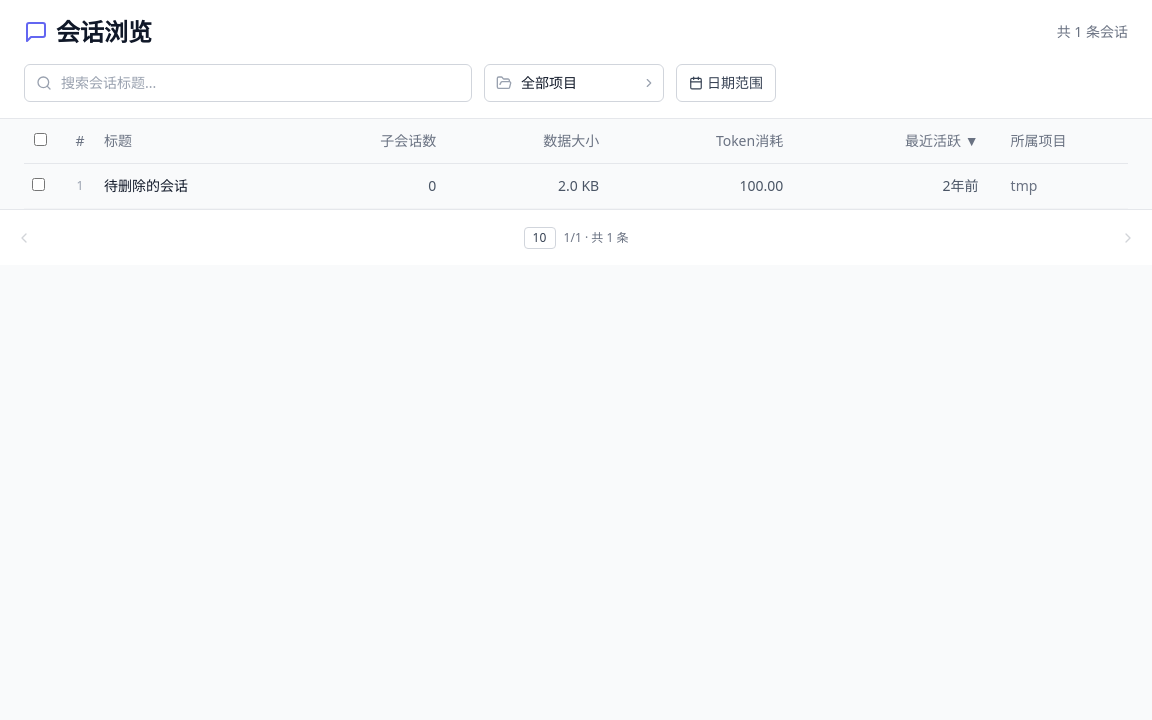
Sessions 删除确认文案按方言区分（P2-8） › v1：只说删除当前会话，不提子会话
The image size is (1152, 720).
Click the text "待删除的会话" at [146, 186], box [104, 164, 289, 208]
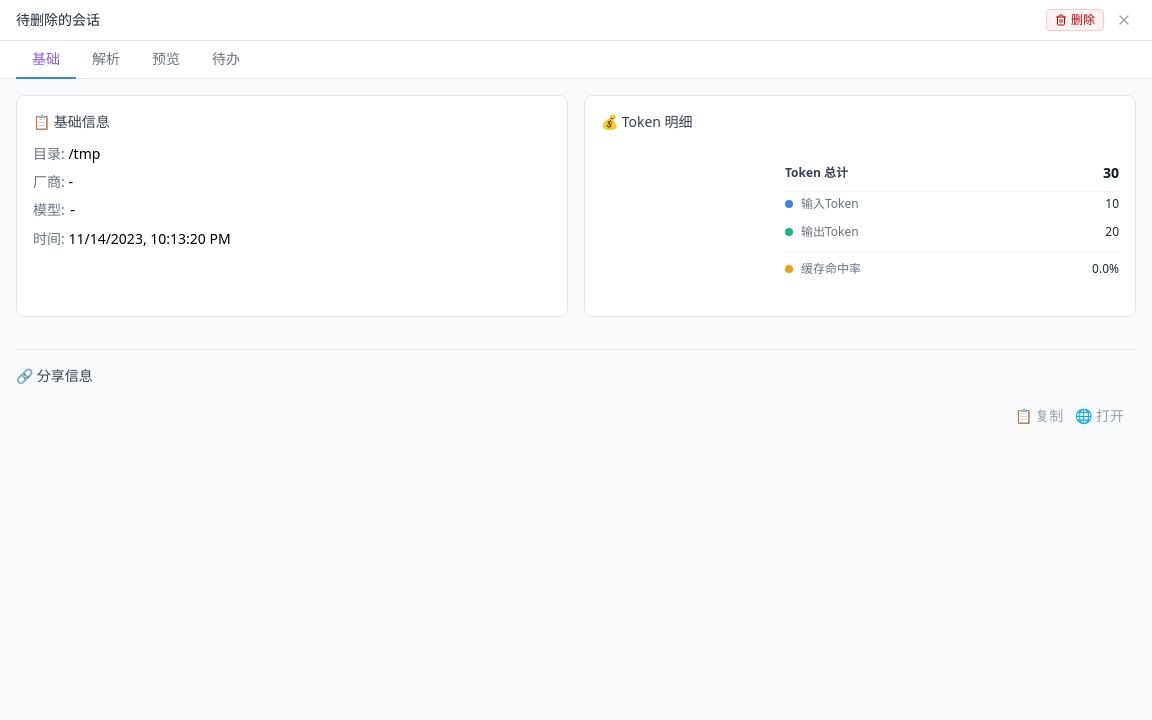
Click the button with aria-label "删除会话" at [1075, 20], box [1046, 9, 1104, 31]
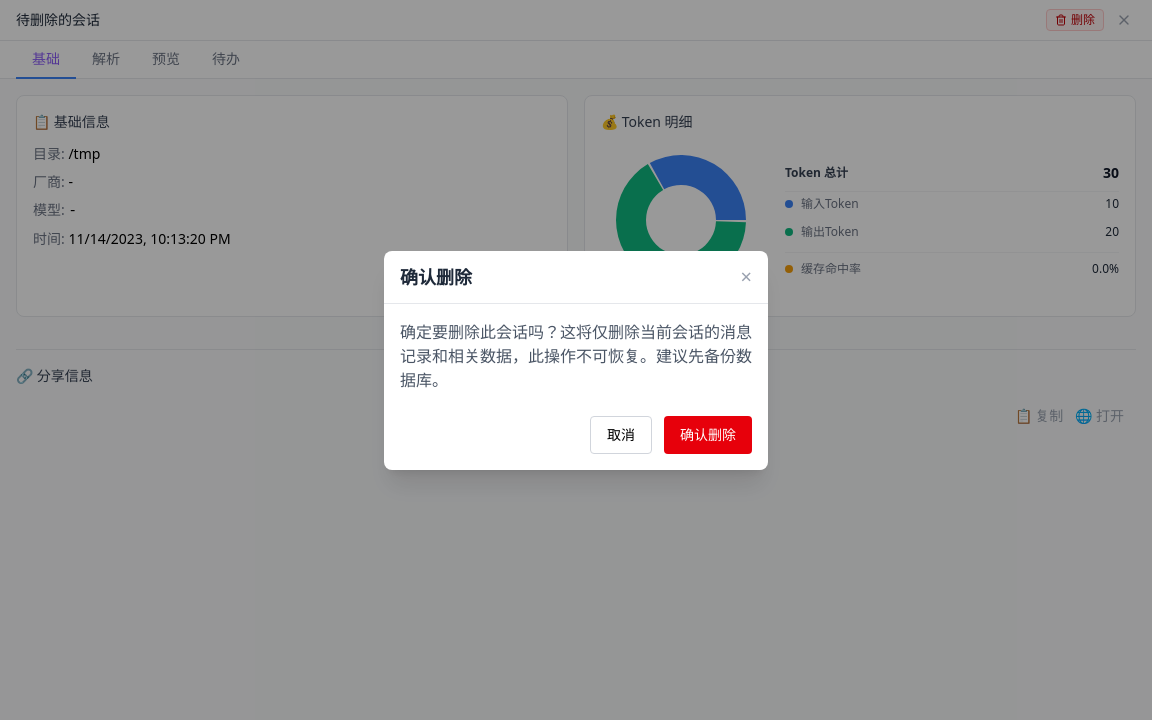
Now the button "确认删除" is shown, box [664, 416, 752, 454]
Now the text "确定要删除此会话吗？这将仅删除当前会话的消息记录和相关数据，此操作不可恢复。建议先备份数据库。" is shown, box [400, 320, 752, 392]
